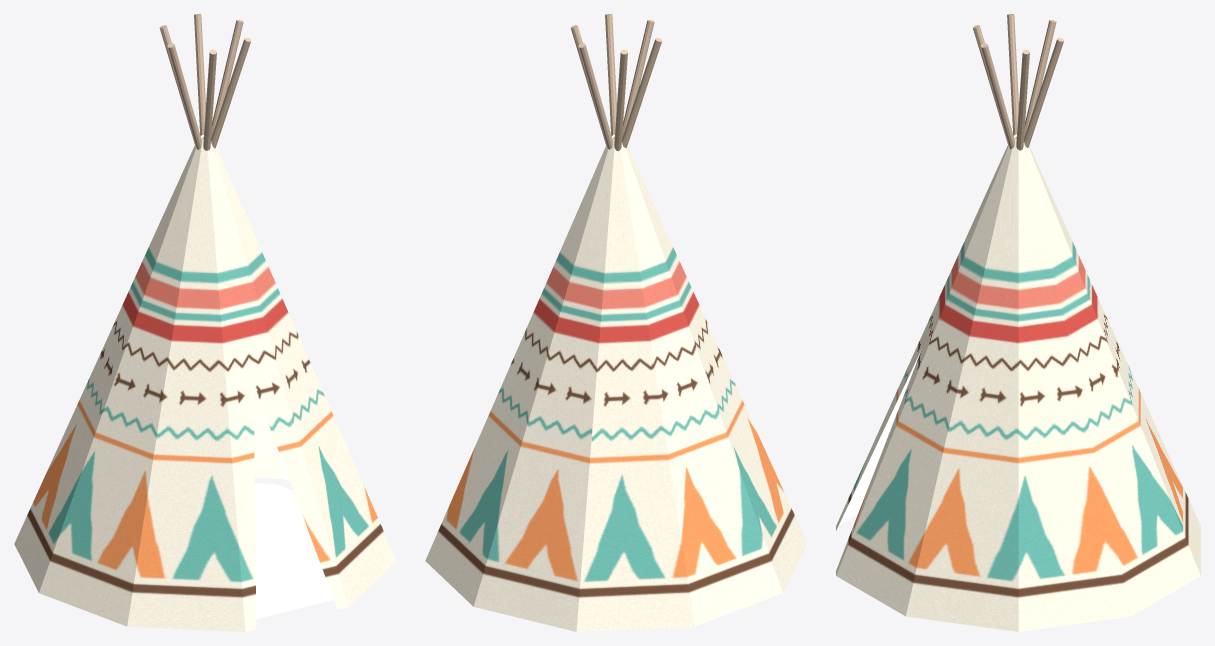
The model's file is tent_AR.glb.
3 renders of one model, left to right at view 1: azimuth 30°, elevation 25°; view 2: azimuth 150°, elevation 25°; view 3: azimuth 270°, elevation 25°, orthographic.
Parts seen in each view (by area): view 1: 천막, 깔개, 기둥, 천막_안쪽; view 2: 천막, 기둥; view 3: 천막, 기둥, 천막_안쪽.
Part boxes in pixels (left/top/right/bottom): 천막: left=14, top=138, right=396, bottom=631; 깔개: left=254, top=483, right=333, bottom=618; 기둥: left=159, top=14, right=251, bottom=150; 천막_안쪽: left=200, top=135, right=289, bottom=481; 천막: left=425, top=138, right=807, bottom=631; 기둥: left=570, top=14, right=662, bottom=151; 천막: left=836, top=138, right=1200, bottom=631; 기둥: left=973, top=14, right=1063, bottom=150; 천막_안쪽: left=839, top=134, right=1016, bottom=525.
Size of the model in its own units: 1.23 by 1.84 by 1.17.
Materials: 6 (1 with a texture image).
